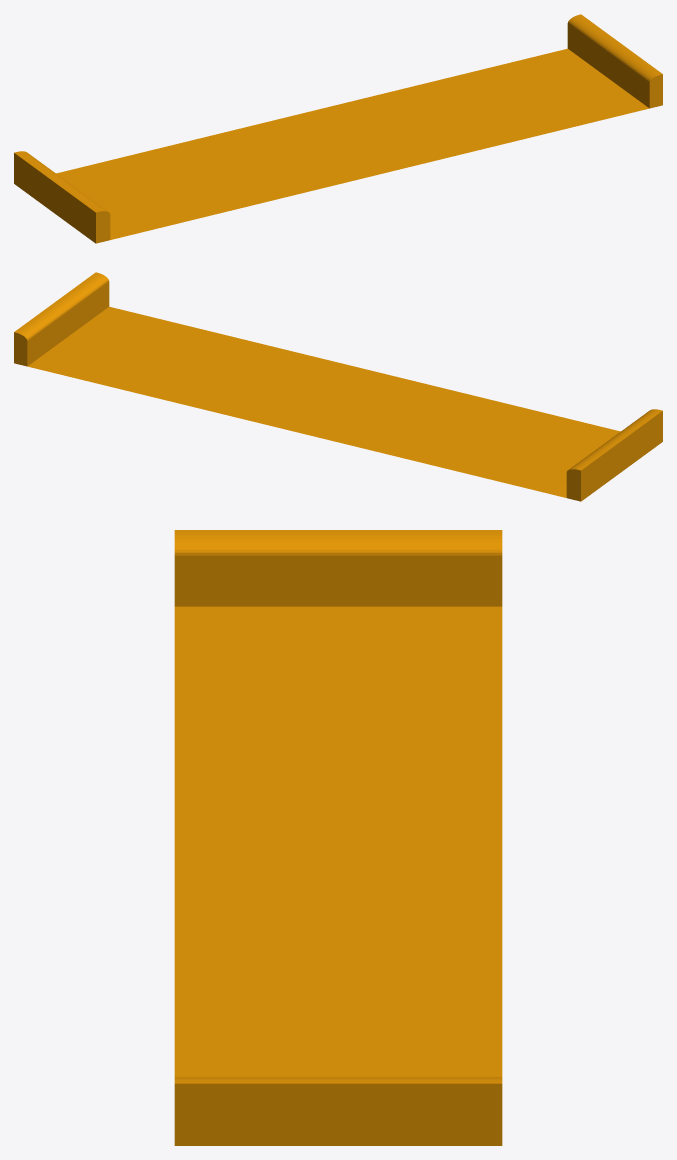
Rendered from Track.fbx.
3 renders of one model, top to bottom at view 1: azimuth 30°, elevation 25°; view 2: azimuth 150°, elevation 25°; view 3: azimuth 270°, elevation 25°, orthographic. The views are drawn at different scales.
Visible parts, largest first — view 1: Plane; view 2: Plane; view 3: Plane.
Part boxes in pixels (x1,y1,x2,y2): Plane: (14, 14, 662, 243); Plane: (14, 272, 662, 501); Plane: (174, 530, 502, 1145).
Bounding box in the file's own units: 8000 × 419 × 2000.
